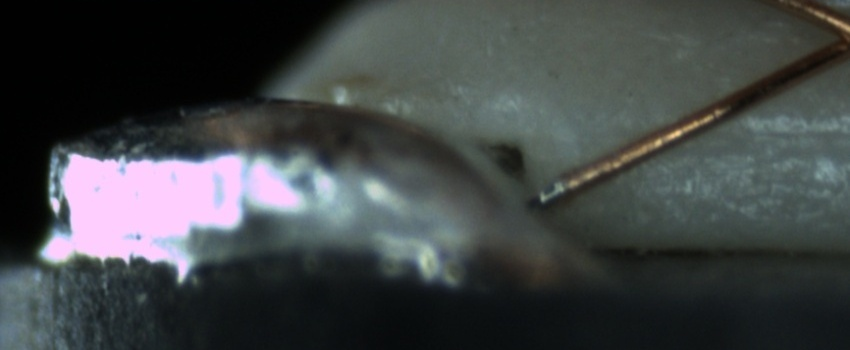CL: (802, 4, 850, 68)
DL: (637, 102, 847, 175)
TS: (531, 175, 571, 206)
